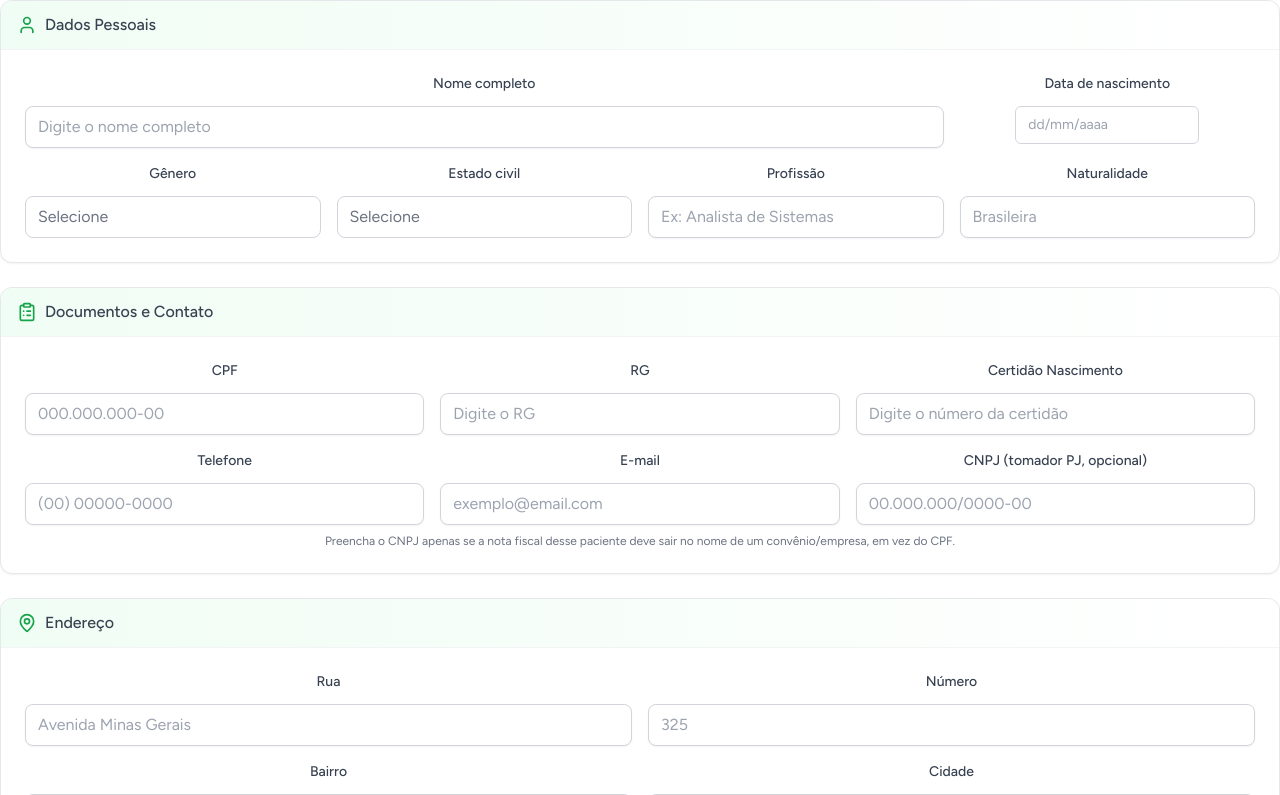
Test case: PatientForm — data de nascimento › digitar 14101985 aplica a máscara dd/mm/aaaa
Step 1. Type "14101985" into the field with placeholder "dd/mm/aaaa" → (1107, 125), box [1015, 106, 1199, 144]
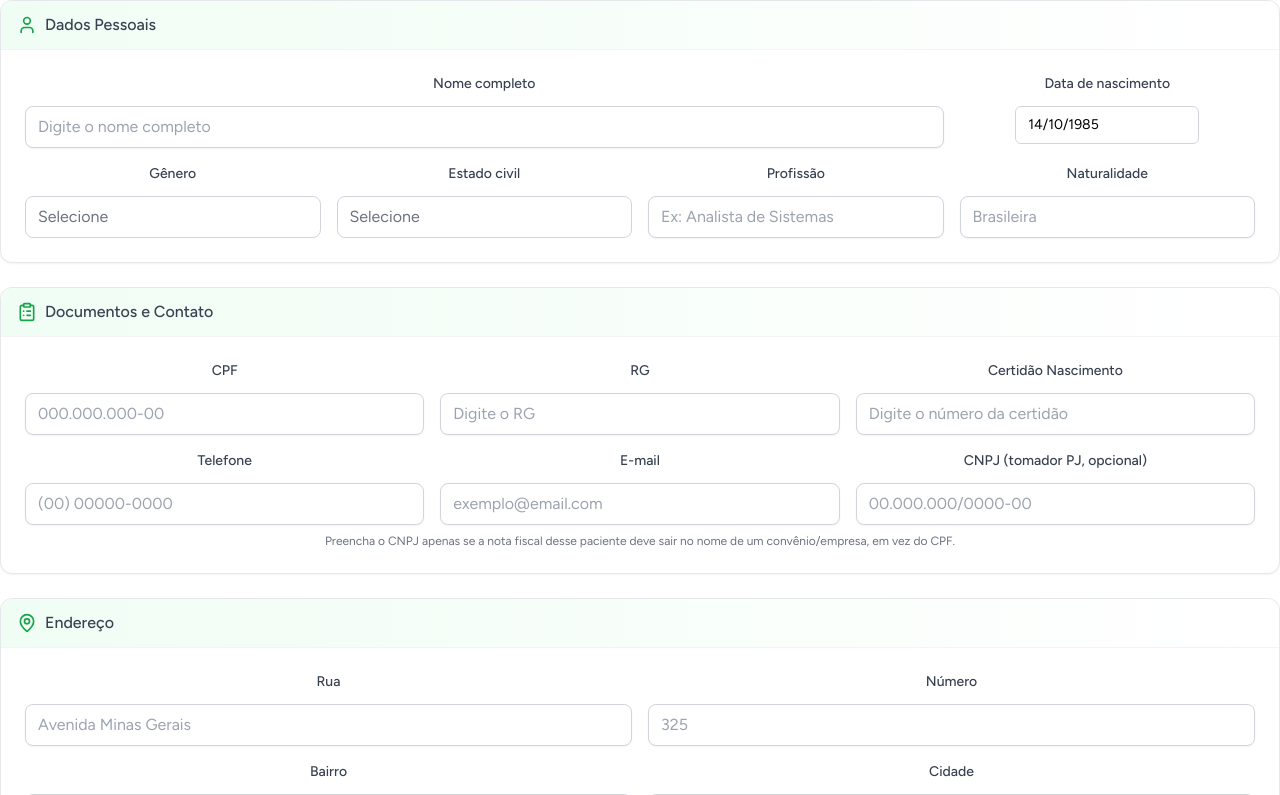
Now the field with placeholder "dd/mm/aaaa" holds "14/10/1985", box [1015, 106, 1199, 144]
